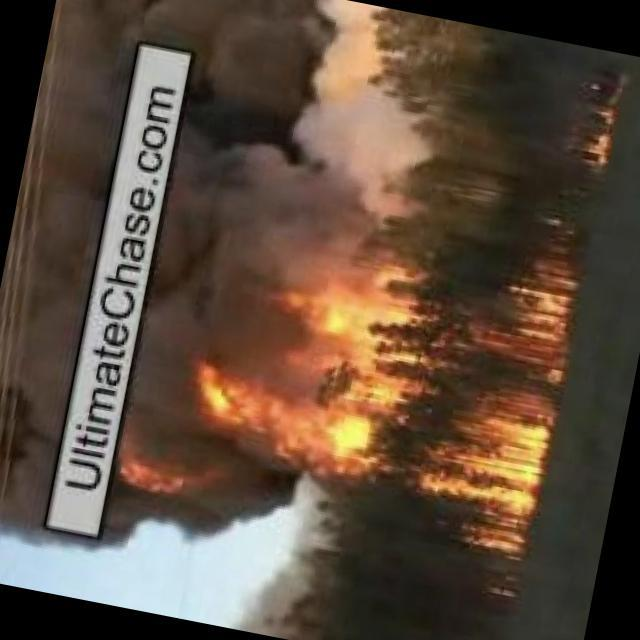Fire: (185, 213, 453, 475), (410, 229, 589, 568), (109, 444, 231, 505), (569, 82, 622, 189)
